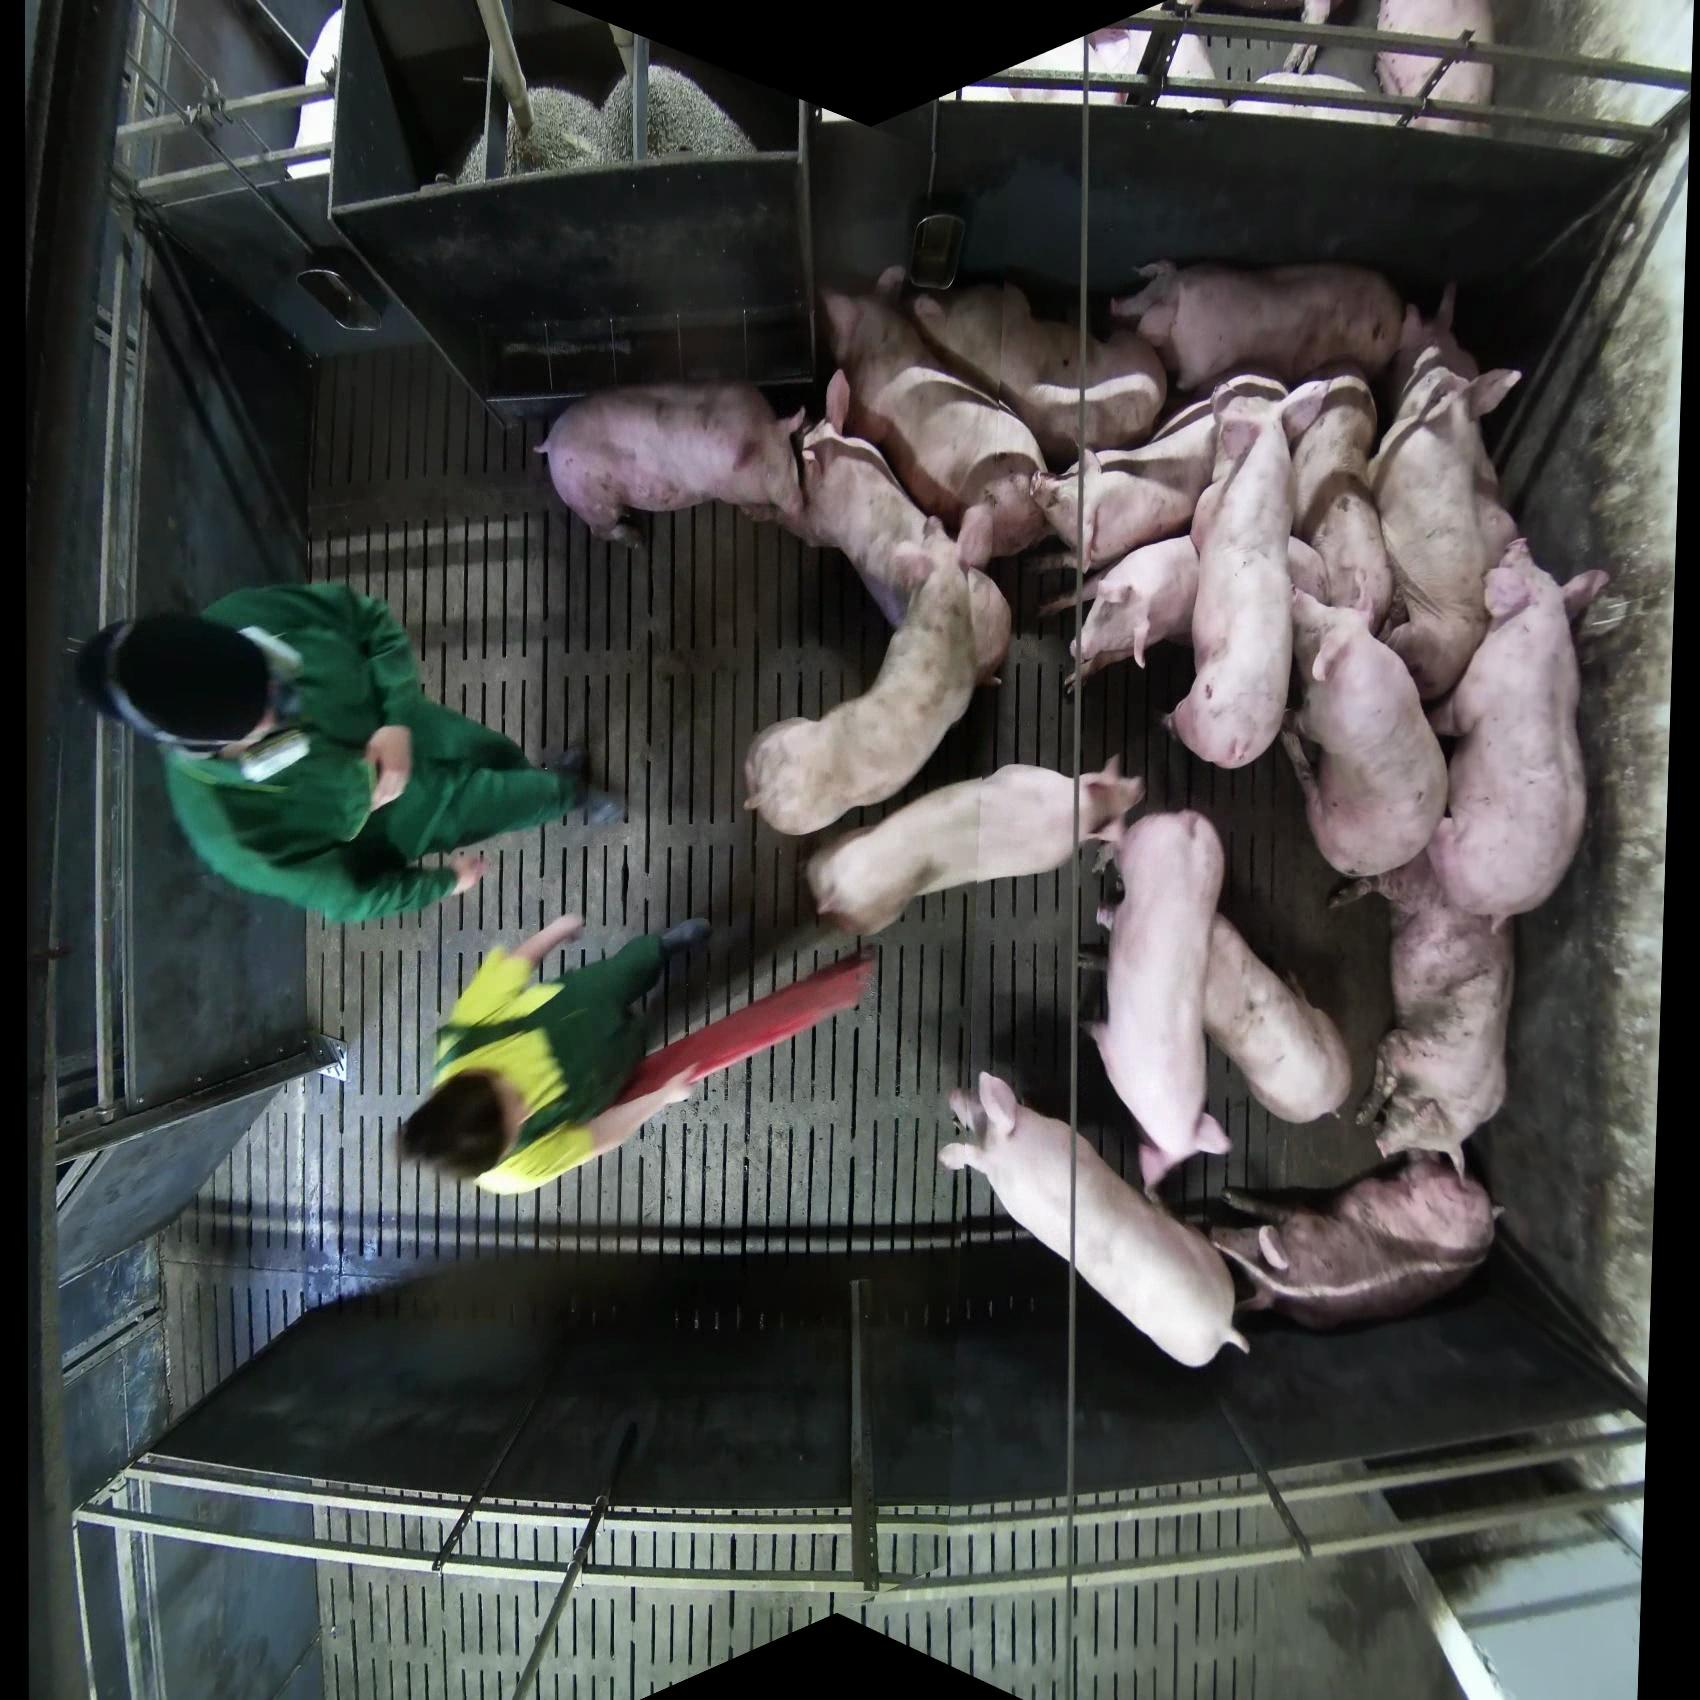pig: (937, 1071, 1252, 1371), (742, 542, 1014, 838), (817, 268, 1056, 568), (1428, 538, 1610, 921), (806, 754, 1146, 939), (1082, 809, 1233, 1191), (1208, 1148, 1500, 1332), (1366, 362, 1524, 704), (1169, 385, 1298, 772), (1284, 584, 1451, 882), (909, 278, 1169, 468), (534, 378, 813, 553), (1352, 891, 1518, 1175), (797, 370, 961, 630), (1110, 256, 1405, 395), (1031, 395, 1221, 570), (1202, 913, 1354, 1126), (1287, 374, 1395, 626), (1038, 534, 1200, 694), (1375, 1, 1498, 137), (1386, 280, 1481, 420), (1228, 69, 1381, 125)
worker: (75, 575, 625, 926), (398, 908, 878, 1199)
